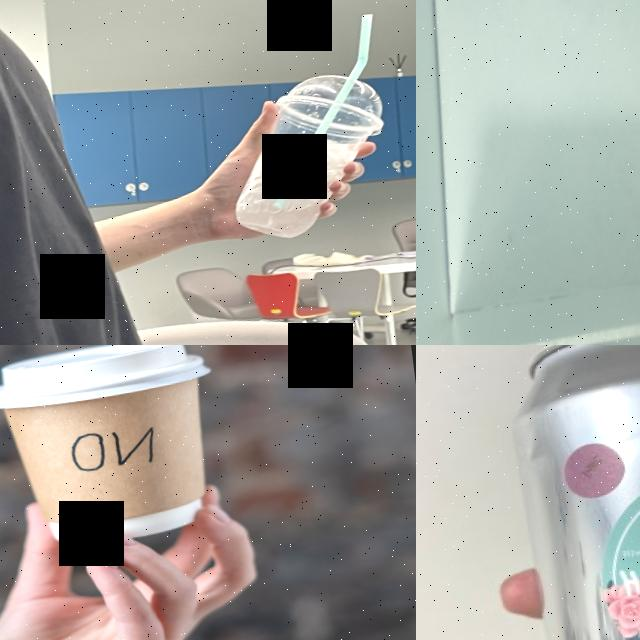can: (499, 345, 640, 640)
cup: (0, 345, 229, 556), (218, 66, 398, 245)
